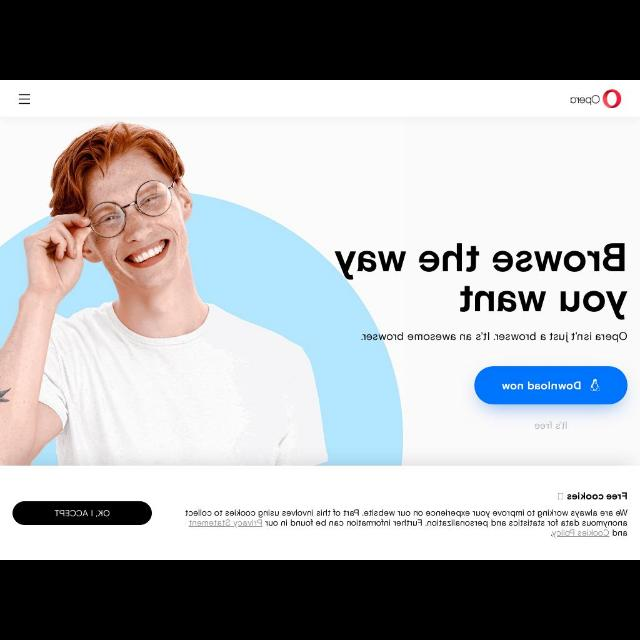icon: (17, 90, 33, 108)
image: (1, 119, 378, 465), (568, 86, 624, 108)
text: (337, 244, 627, 278), (186, 508, 628, 528), (458, 287, 630, 317), (360, 332, 628, 344), (548, 530, 626, 540), (554, 492, 630, 501), (532, 422, 572, 431)
textbutton: (476, 367, 626, 403), (13, 503, 151, 525), (186, 519, 264, 529), (551, 531, 611, 539)
